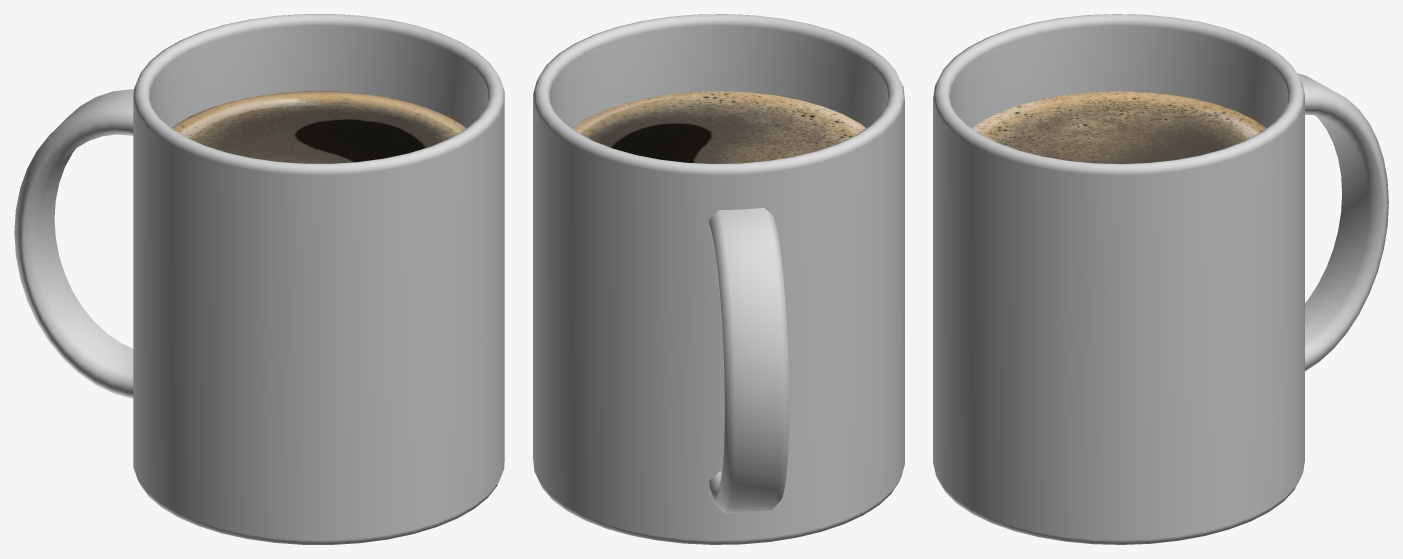
The model's file is taza.glb.
3 renders of one model, left to right at view 1: azimuth 30°, elevation 25°; view 2: azimuth 150°, elevation 25°; view 3: azimuth 270°, elevation 25°, orthographic.
Visible parts, largest first — view 1: Mug1_Mug_0, Mug1_Coffee_0; view 2: Mug1_Mug_0, Mug1_Coffee_0; view 3: Mug1_Mug_0, Mug1_Coffee_0.
Part boxes in pixels (bbox=[...]): Mug1_Mug_0: bbox=[14, 14, 504, 544]; Mug1_Coffee_0: bbox=[171, 91, 466, 163]; Mug1_Mug_0: bbox=[533, 14, 904, 544]; Mug1_Coffee_0: bbox=[572, 91, 866, 163]; Mug1_Mug_0: bbox=[933, 14, 1388, 544]; Mug1_Coffee_0: bbox=[972, 91, 1265, 163].
Size of the model in its own units: 2.78 by 2.93 by 3.17.
2 materials, 1 textured.
